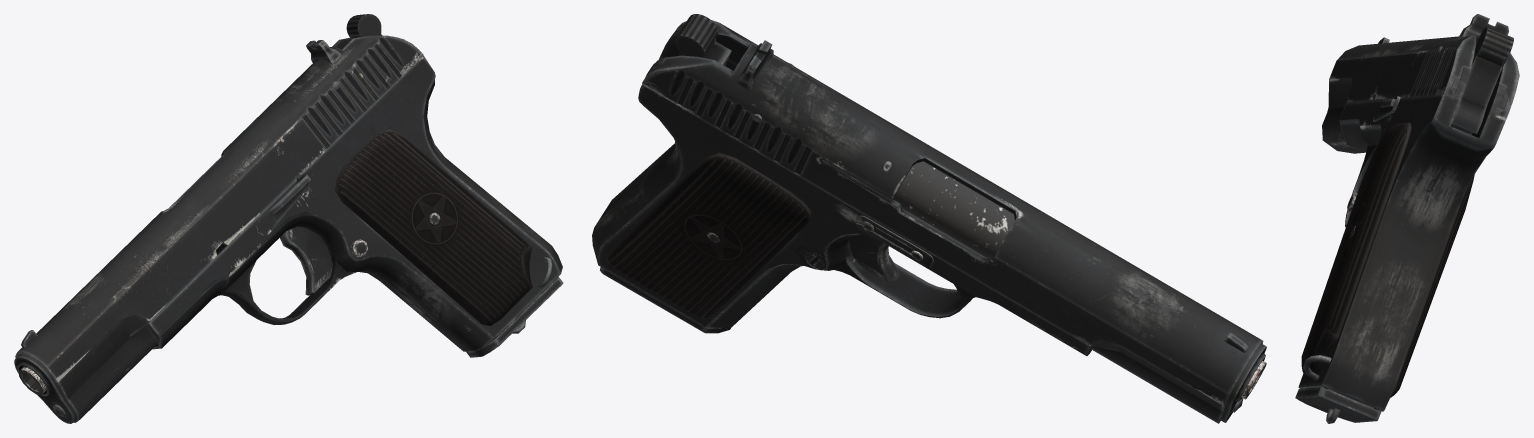
File: tt_pistol.glb
The picture shows the model from 3 angles, left to right: view 1: azimuth 30°, elevation 25°; view 2: azimuth 150°, elevation 25°; view 3: azimuth 270°, elevation 25°; orthographic projection. The views are drawn at different scales.
Visible parts, largest first — view 1: pistol; view 2: pistol; view 3: pistol.
Part boxes in pixels (<box>): pistol: <box>14,14,563,423</box>; pistol: <box>592,14,1266,423</box>; pistol: <box>1295,14,1519,423</box>.
Size of the model in its own units: 5.7 by 3.16 by 1.76.
Materials: 1 (1 with a texture image).
